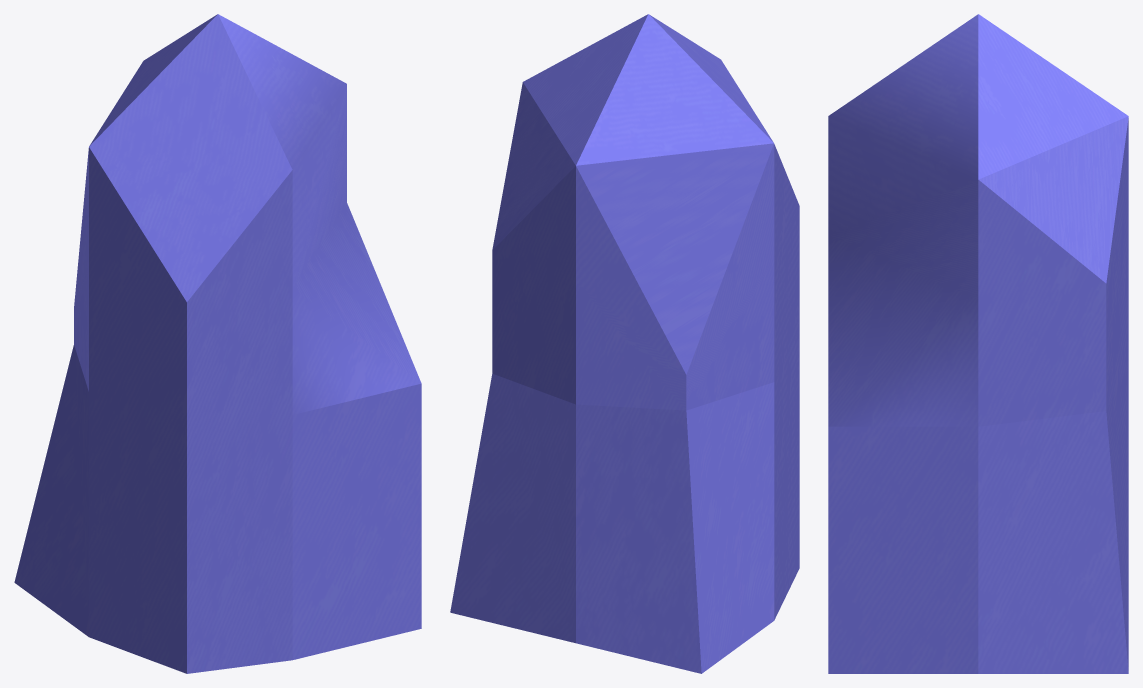
File: ColladaCrystal.dae
3 views of the same model, side by side, from view 1: azimuth 30°, elevation 25°; view 2: azimuth 150°, elevation 25°; view 3: azimuth 270°, elevation 25° (orthographic). The views are drawn at different scales.
Visible parts, largest first — view 1: pCube194; view 2: pCube194; view 3: pCube194.
Part boxes in pixels (x1=…): pCube194: x1=14, y1=14, x2=421, y2=673; pCube194: x1=450, y1=14, x2=799, y2=673; pCube194: x1=828, y1=14, x2=1128, y2=673.
Size of the model in its own units: 20.27 by 44.39 by 20.27.
